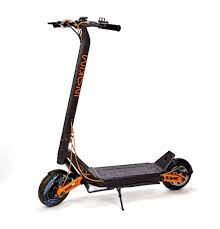kick_board: (37, 17, 192, 205)
kick_body: (96, 164, 159, 185)
kick_handler: (49, 16, 121, 38)
kick_neck: (61, 45, 89, 151)
kick_wheel: (40, 171, 71, 205), (164, 159, 192, 190)
